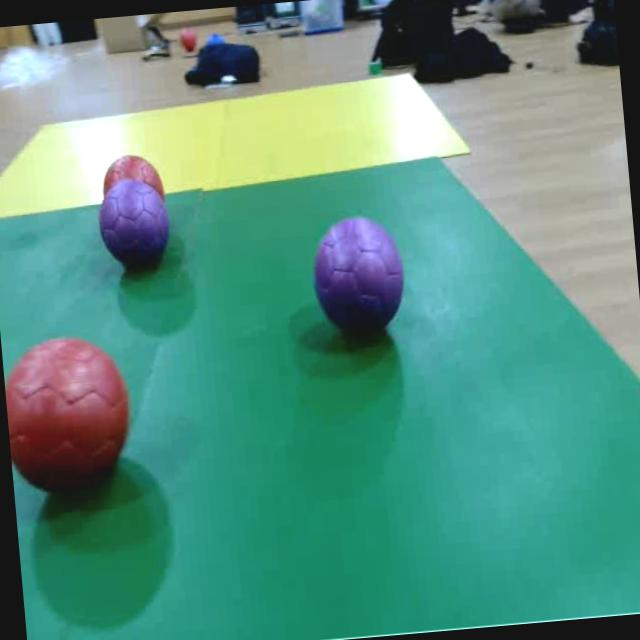purple_ball: (307, 208, 413, 346), (98, 192, 174, 272)
red_ball: (0, 328, 140, 504), (96, 151, 168, 189)
